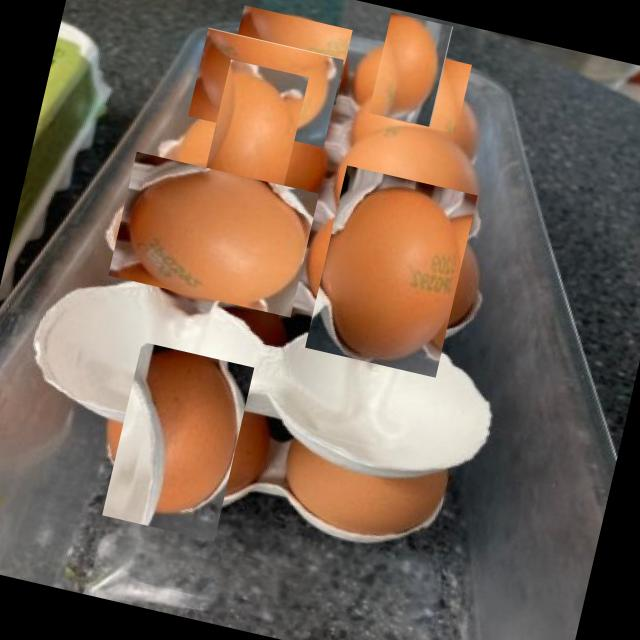eggs: (294, 175, 488, 368), (108, 150, 320, 318), (90, 353, 266, 530), (320, 108, 500, 251), (266, 428, 448, 555), (179, 74, 323, 218), (187, 28, 344, 148), (361, 56, 481, 176), (226, 4, 354, 105), (360, 20, 460, 120)
